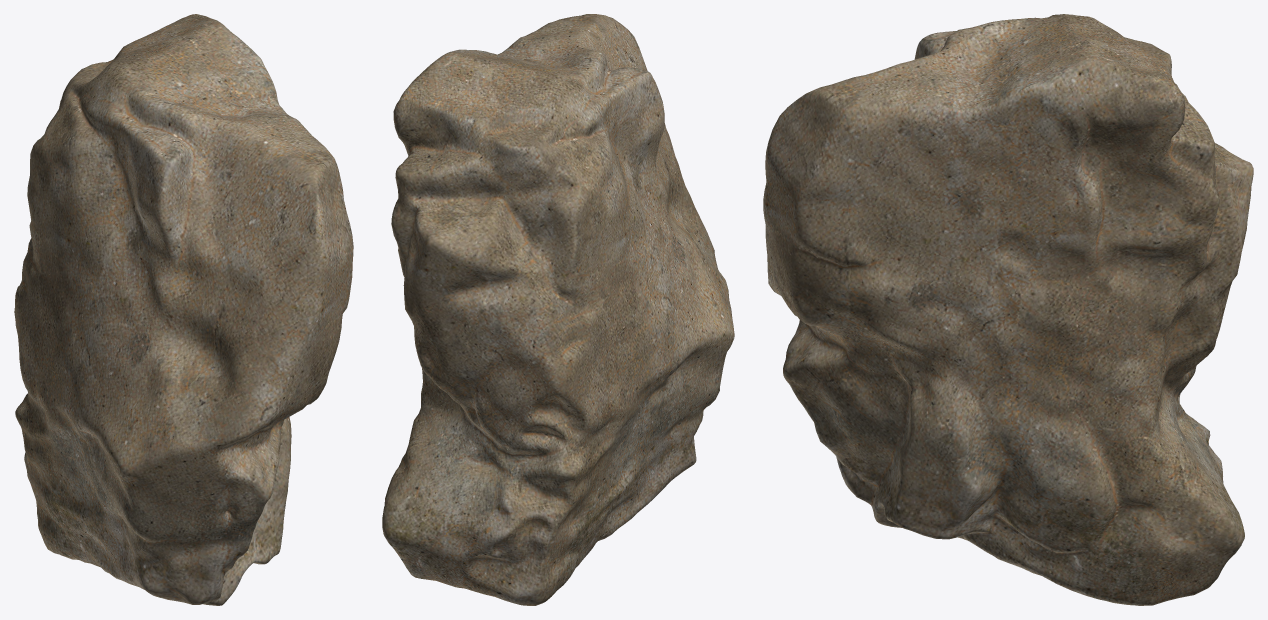
Rendered from rock_4.fbx.
3 views of the same model, side by side, from view 1: azimuth 30°, elevation 25°; view 2: azimuth 150°, elevation 25°; view 3: azimuth 270°, elevation 25° (orthographic). The views are drawn at different scales.
Visible parts, largest first — view 1: Rock_9; view 2: Rock_9; view 3: Rock_9.
Part boxes in pixels (<box>): Rock_9: <box>14,14,353,605</box>; Rock_9: <box>382,14,734,605</box>; Rock_9: <box>763,14,1253,605</box>.
Bounding box in the file's own units: 2282 × 5098 × 4060.
